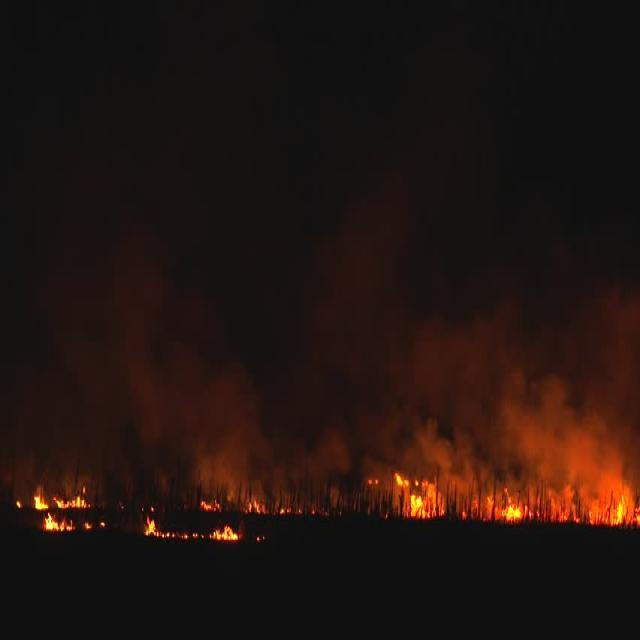Smoke: (0, 246, 286, 504), (406, 317, 636, 519), (358, 402, 498, 510)
